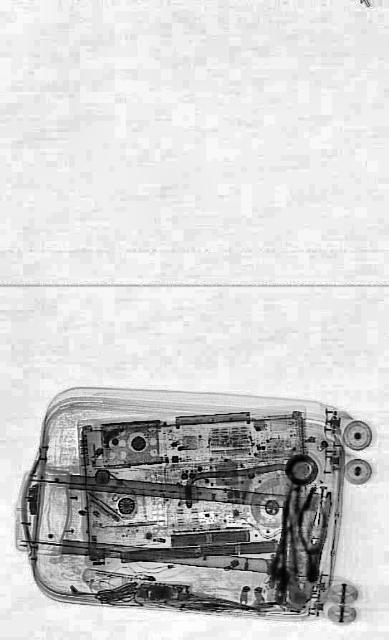Pliers: (281, 482, 333, 610), (295, 486, 331, 582)
